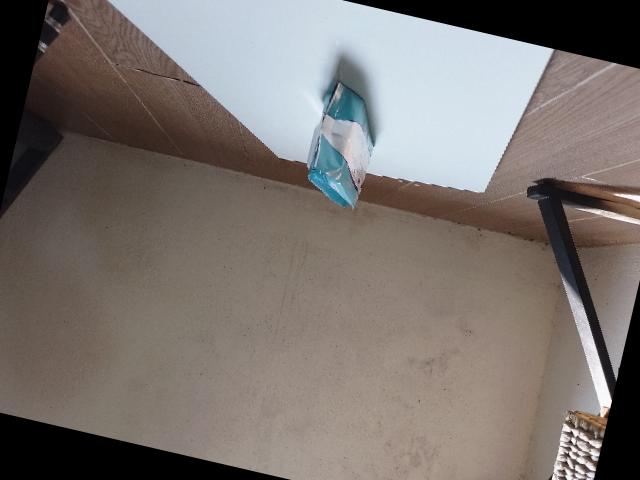Let-green_alcohol_wipes: (306, 79, 374, 208)
